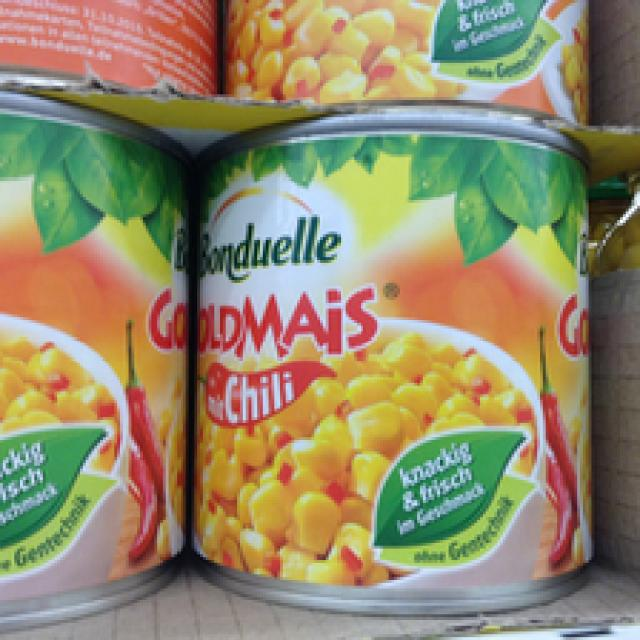groceries: (189, 109, 597, 614), (0, 86, 200, 620), (220, 0, 591, 117)
